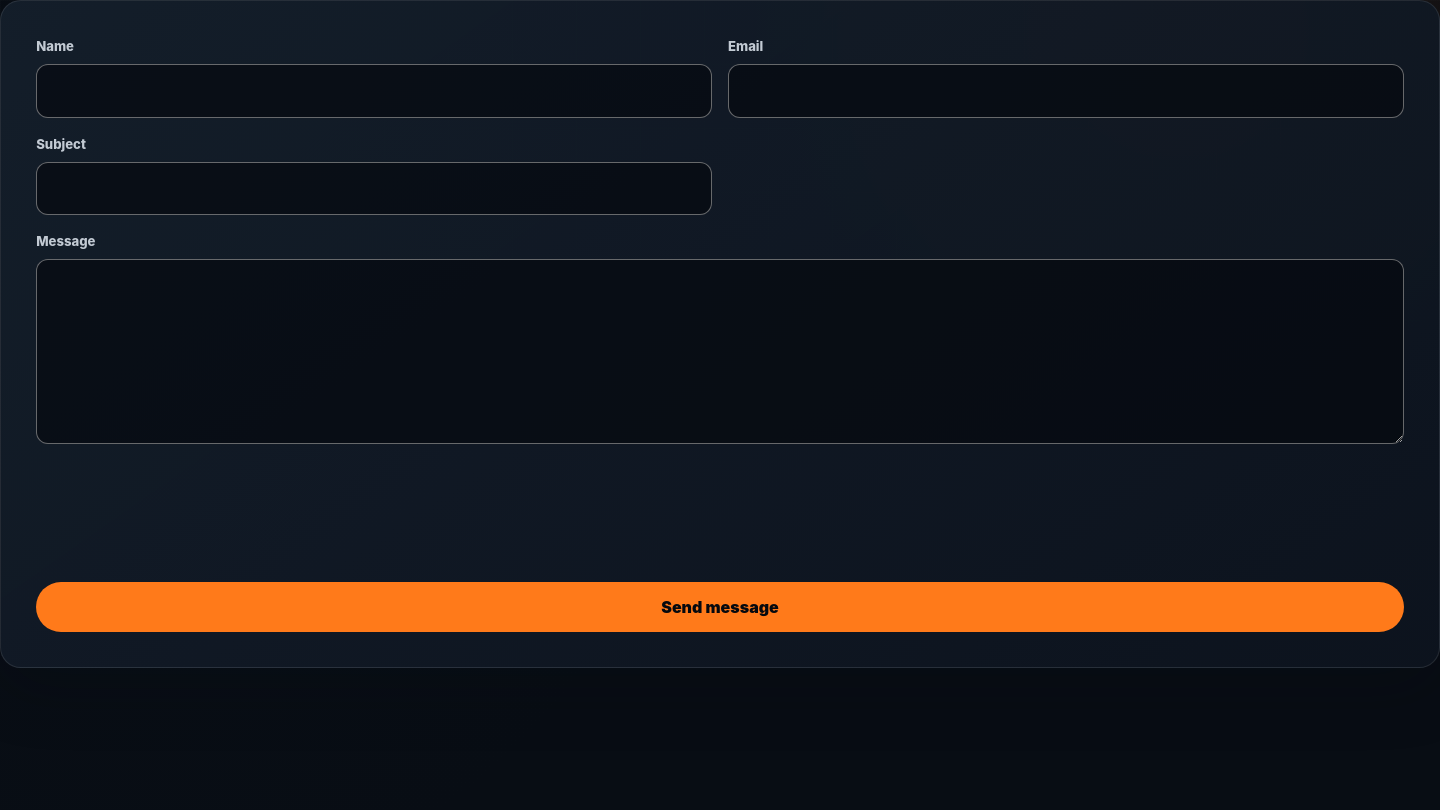
it: ContactForm › disables the submit action while one request is pending
This screenshot has width=1440, height=810.
Type "Mike Visitor" into the field labelled "Name" at (374, 91), box [36,64,712,118]
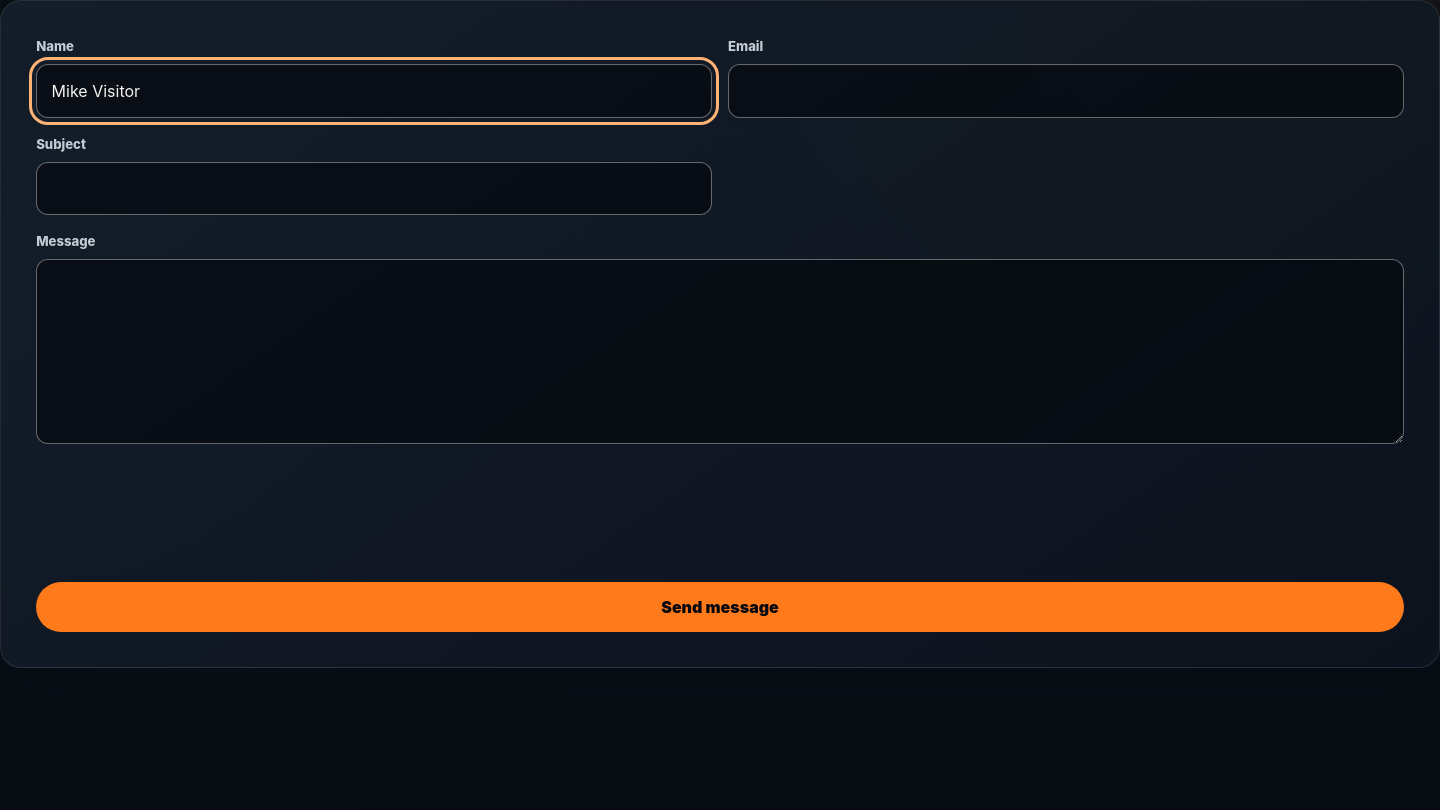
Type "visitor@example.test" into the field labelled "Email" at (1066, 91), box [728,64,1404,118]
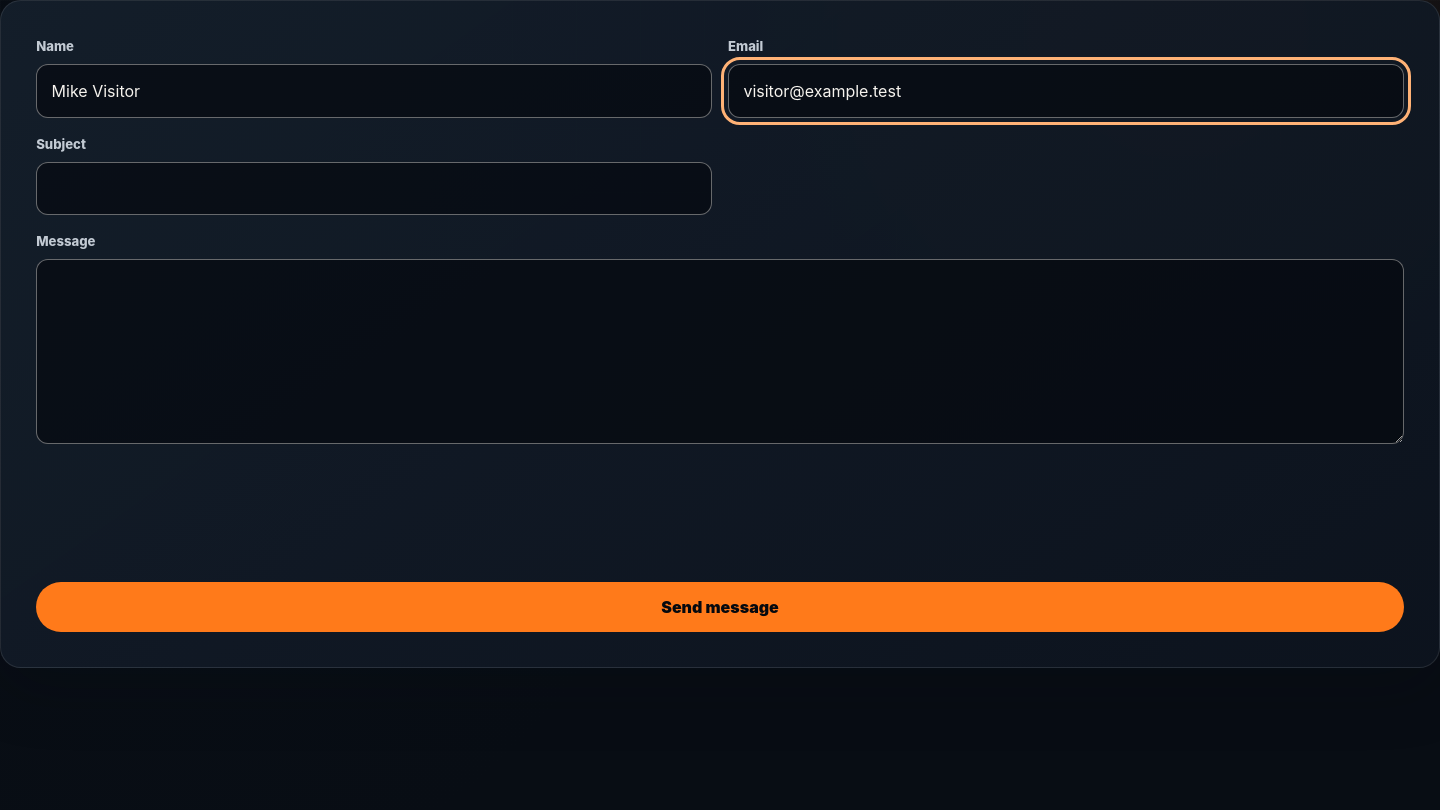
Type "AI engineering opportunity" into the field labelled "Subject" at (374, 188), box [36,162,712,215]
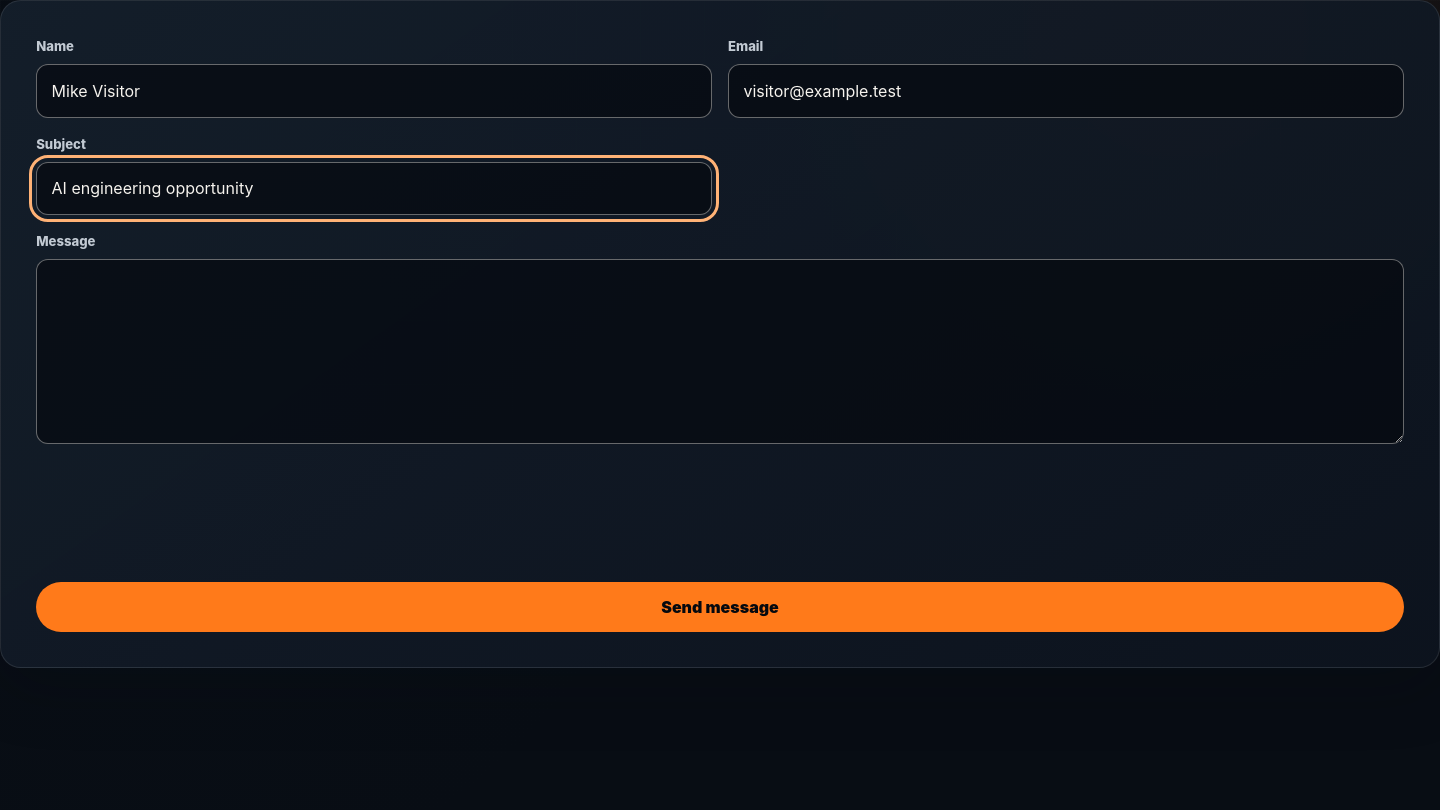
Type "I would like to discuss a relevant AI engineering opportunity." into the text box labelled "Message" at (720, 352), box [36,259,1404,444]
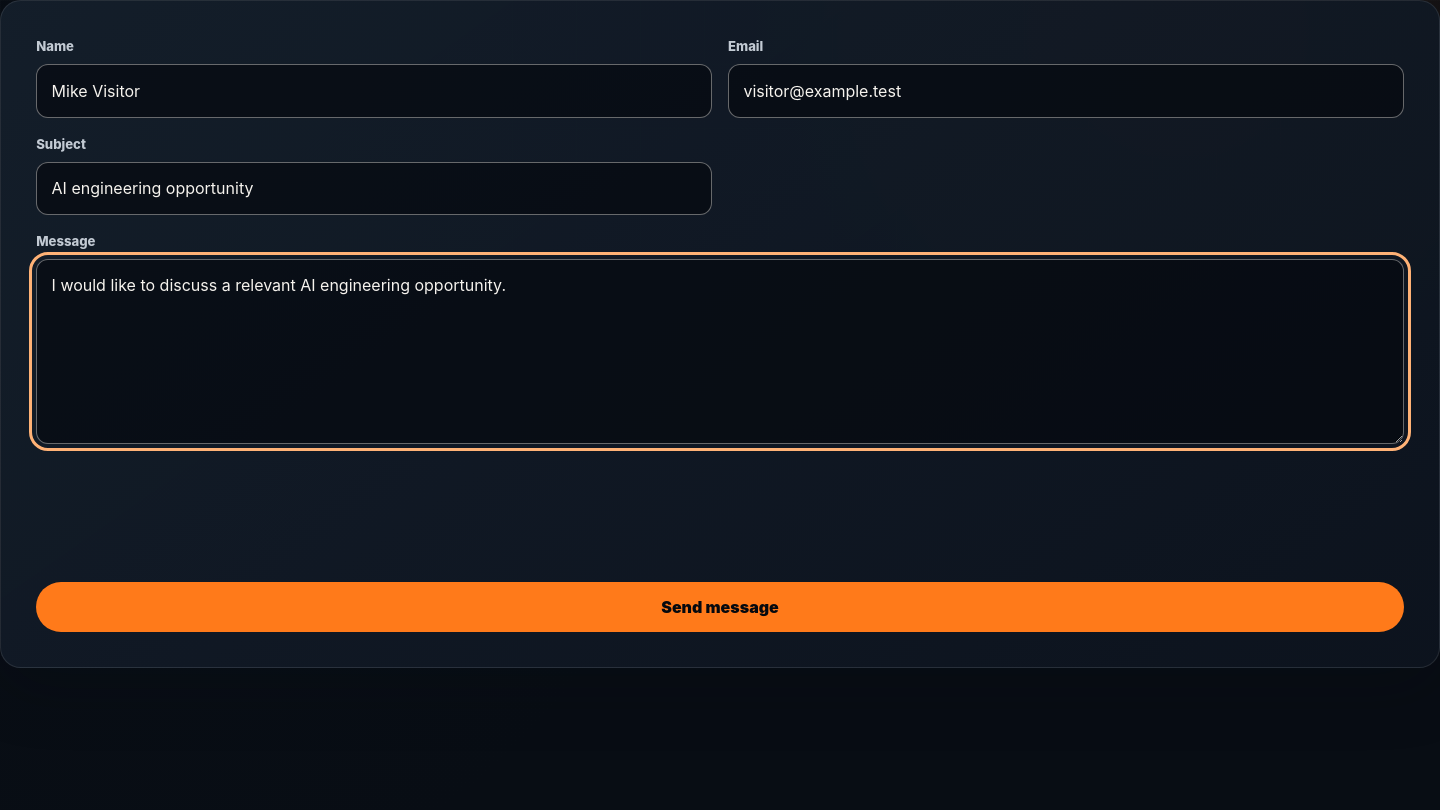
Click the button "Send message" at (720, 607), box [36,582,1404,632]
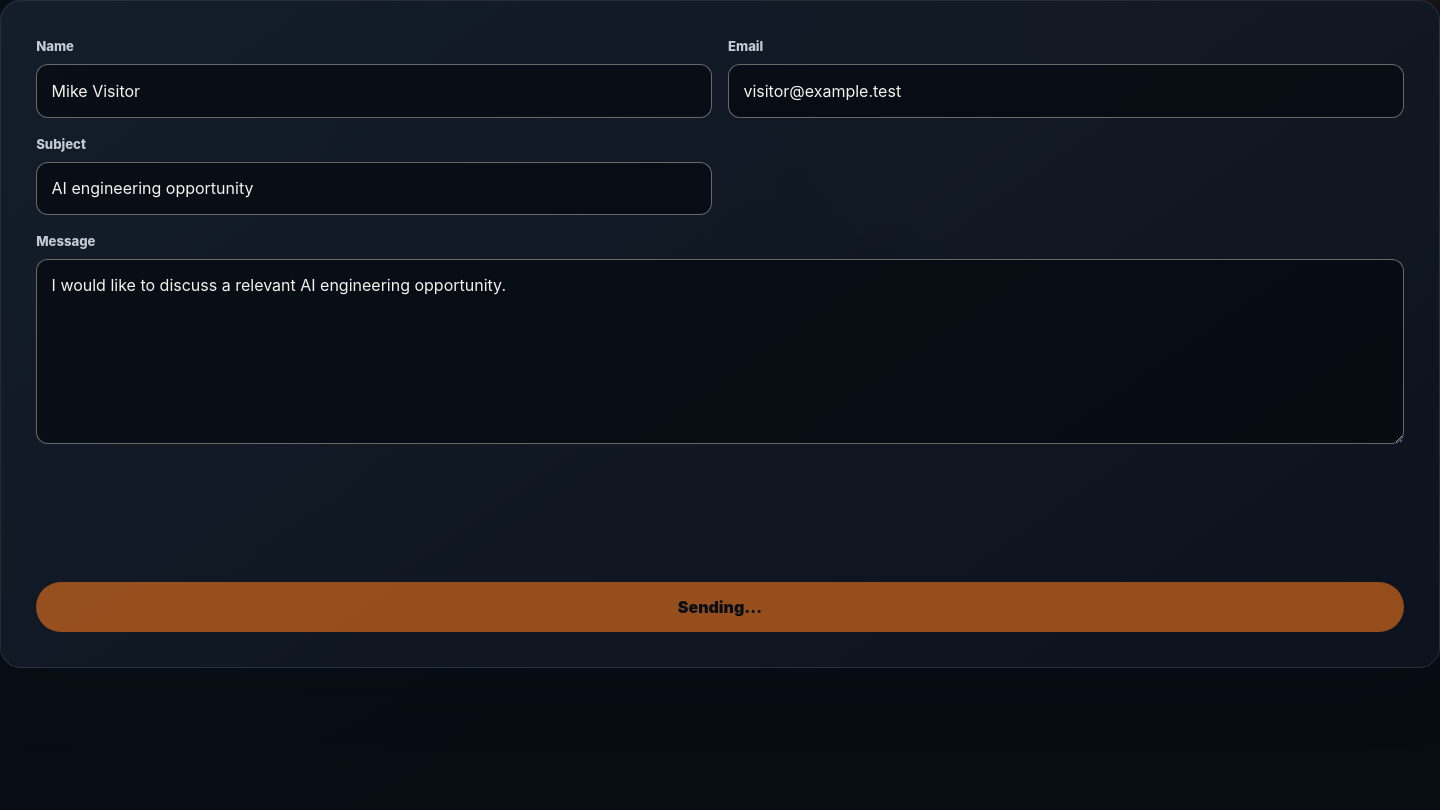
Result: the button "Sending…" is disabled
Click the button "Sending…" at (720, 607), box [36,582,1404,632]
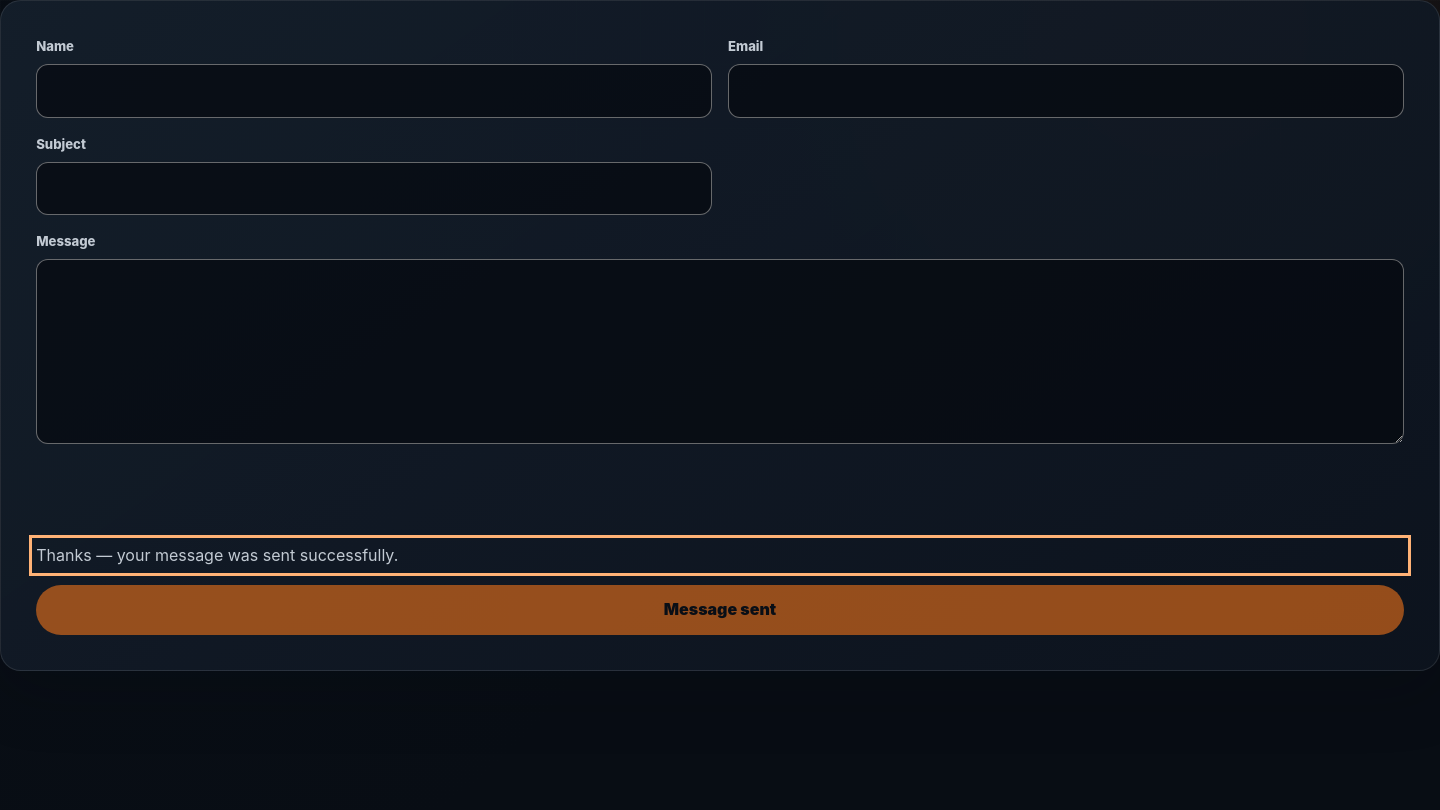
Result: the text "Thanks — your message was sent successfully." is shown at [36,545,398,565]
